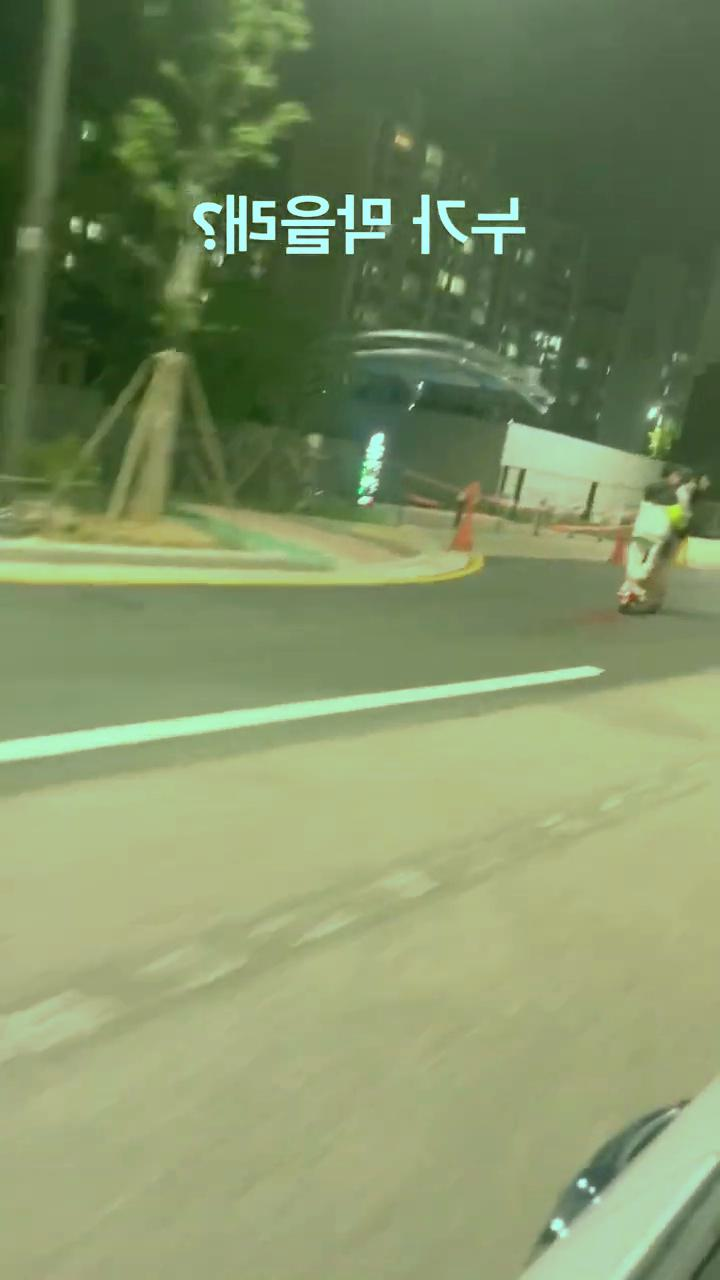multiple: (613, 459, 711, 614)
